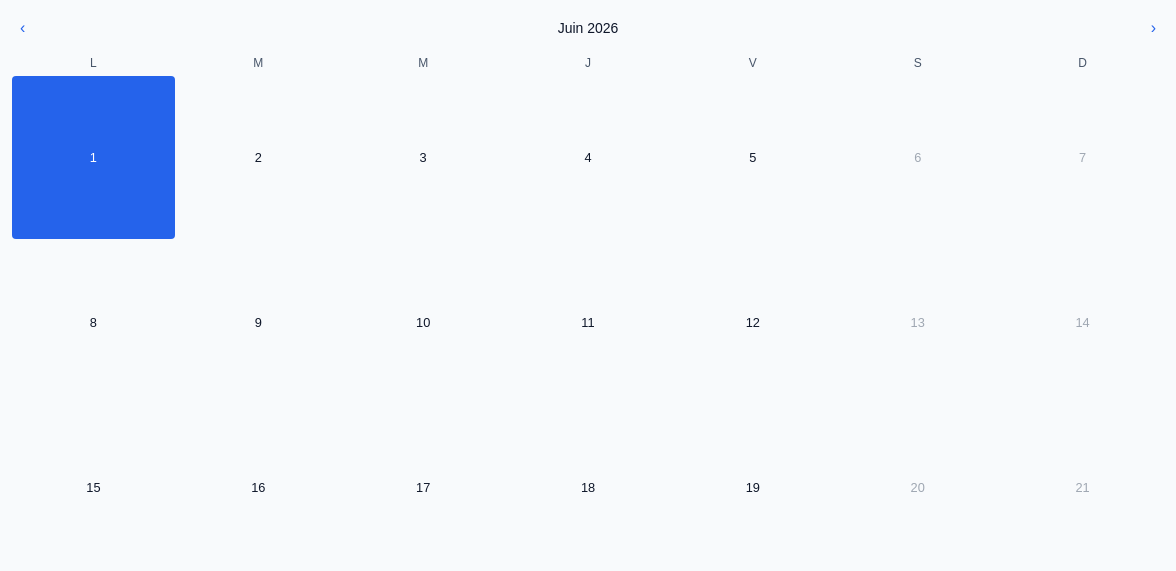
McMiniCalendrierComponent › navigation — clic › clic mois précédent affiche le mois précédent
The width and height of the screenshot is (1176, 571).
Click the button with id "btnMoisPrecedent": (23, 28) [12,12,33,44]
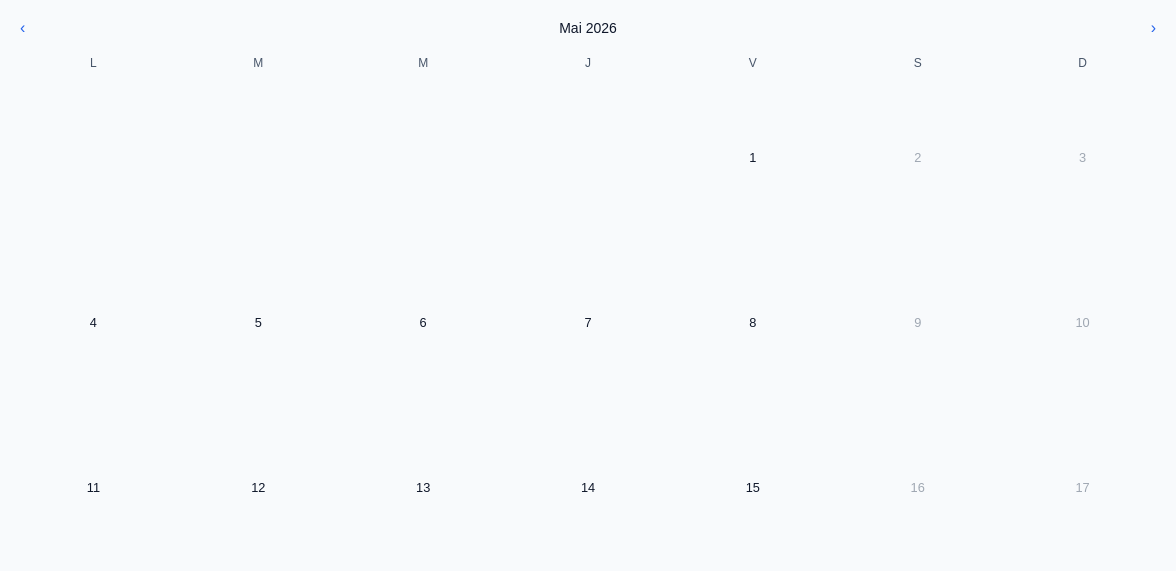
Expected: the text with class "mc-mini-calendrier__libelle-mois" reads "mai 2026", [559,20,617,36]
